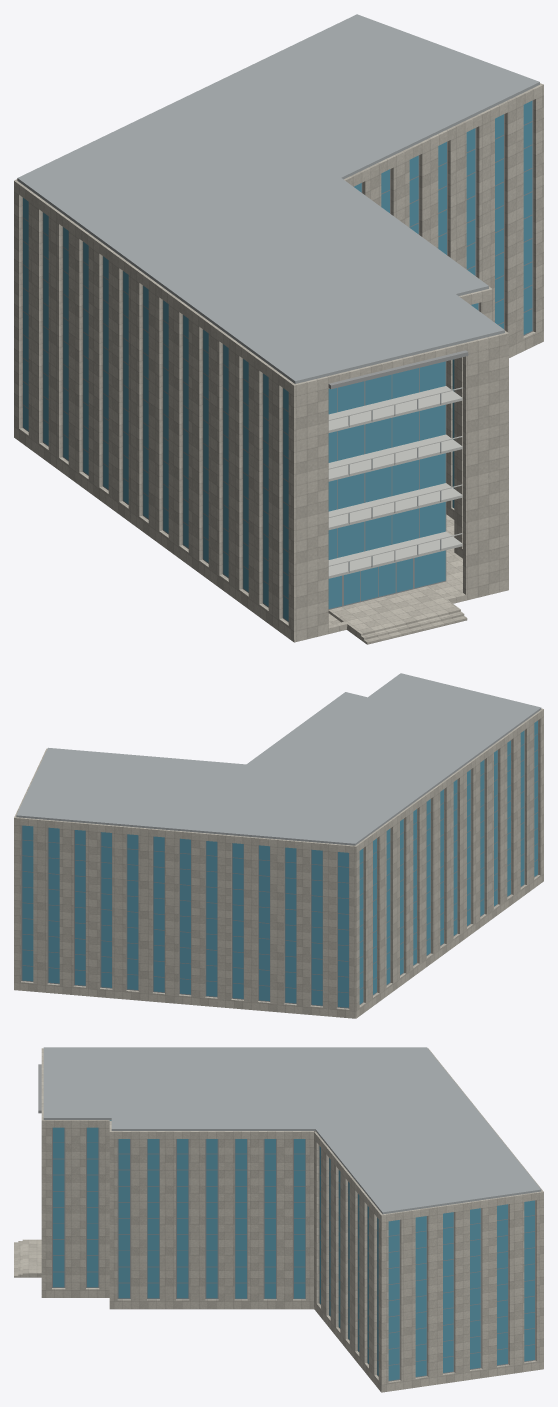
The picture shows the model from 3 angles, top to bottom: view 1: azimuth 30°, elevation 25°; view 2: azimuth 150°, elevation 25°; view 3: azimuth 270°, elevation 25°; orthographic projection. The views are drawn at different scales.
Parts seen in each view (by area): view 1: unist-batch-b101__stair-main, unist-batch-b101__roof, b101__glass, b101__frame, b101__steel, b101__threshold-main; view 2: unist-batch-b101__stair-main, unist-batch-b101__roof, b101__glass, b101__frame; view 3: unist-batch-b101__stair-main, unist-batch-b101__roof, b101__glass, b101__frame, b101__threshold-main.
Part boxes in pixels (left/top/right/bottom): unist-batch-b101__stair-main: left=14, top=83, right=543, bottom=644; unist-batch-b101__roof: left=17, top=14, right=539, bottom=389; b101__glass: left=23, top=101, right=532, bottom=620; b101__frame: left=22, top=100, right=533, bottom=622; b101__steel: left=328, top=386, right=462, bottom=578; b101__threshold-main: left=328, top=585, right=457, bottom=637; unist-batch-b101__stair-main: left=14, top=708, right=543, bottom=1018; unist-batch-b101__roof: left=16, top=673, right=541, bottom=845; b101__glass: left=22, top=720, right=537, bottom=1007; b101__frame: left=21, top=720, right=538, bottom=1008; unist-batch-b101__stair-main: left=14, top=1048, right=543, bottom=1392; unist-batch-b101__roof: left=38, top=1047, right=541, bottom=1214; b101__glass: left=53, top=1120, right=534, bottom=1380; b101__frame: left=52, top=1127, right=535, bottom=1381; b101__threshold-main: left=27, top=1239, right=41, bottom=1277.
Bounding box in the file's own units: 40.62 × 20.35 × 54.46.
6 materials, 2 textured.
